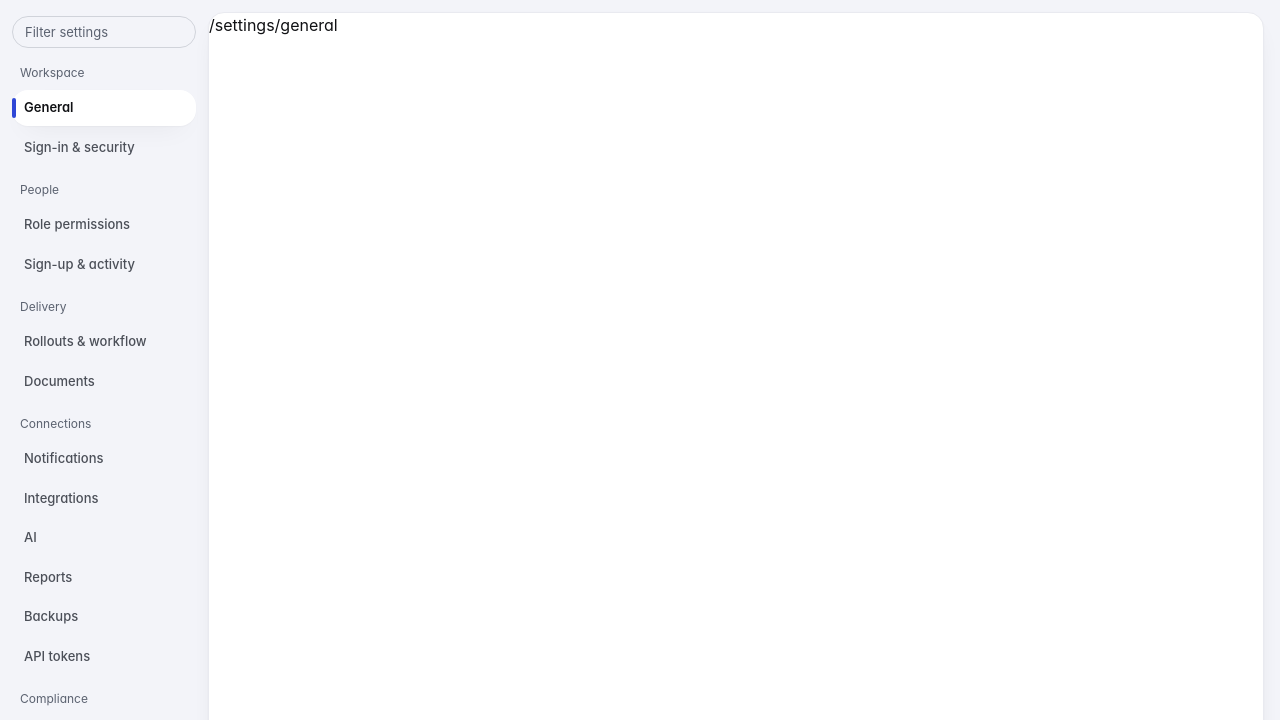
Test case: the Settings menu filter (B14) › matches an area by its name
Type "backup" into the search field labelled "Filter settings" at (104, 32), box left=12, top=16, right=196, bottom=48
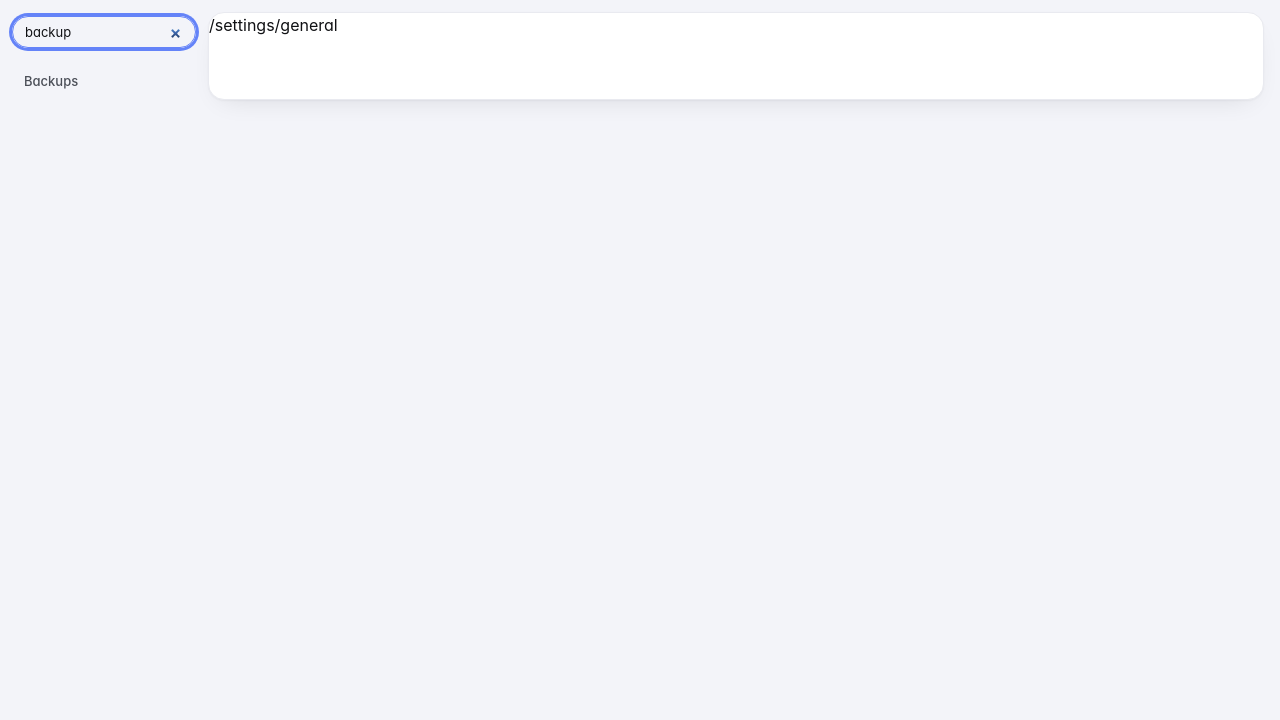
Check: the link "Backups" is shown, box left=24, top=73, right=78, bottom=89
Check: the link "Reports" is gone
